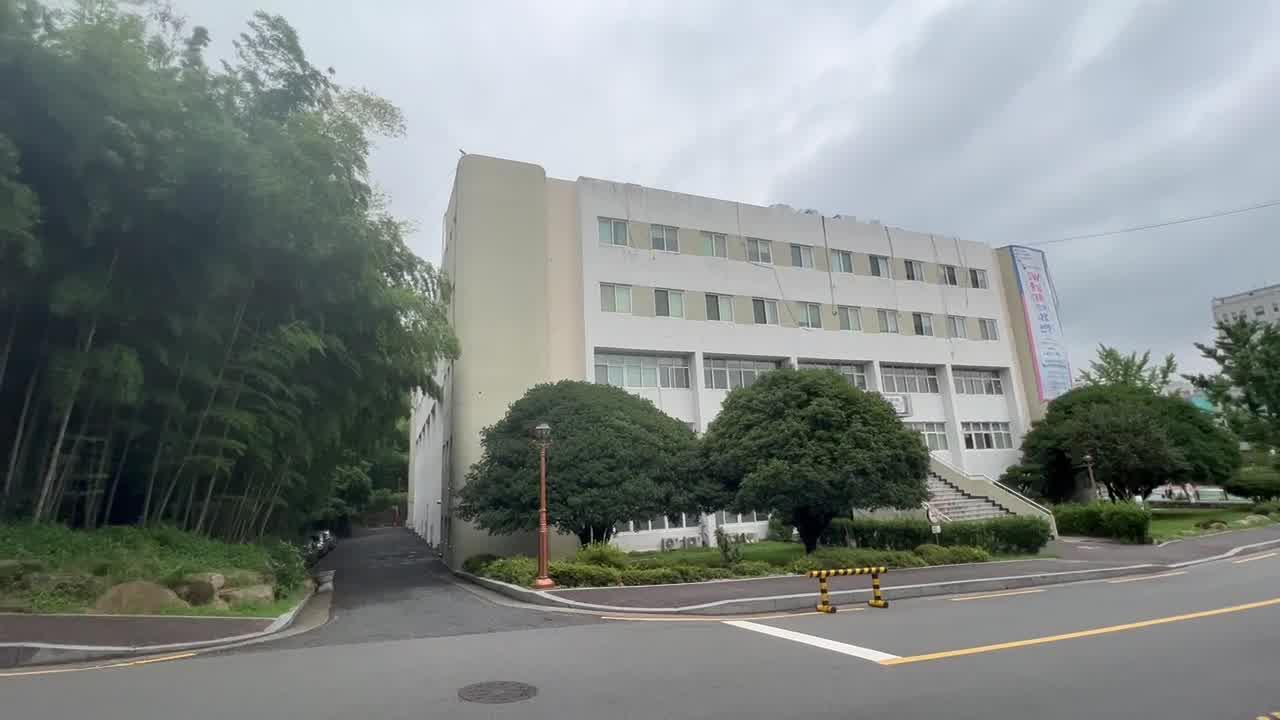building: (449, 133, 1003, 364)
